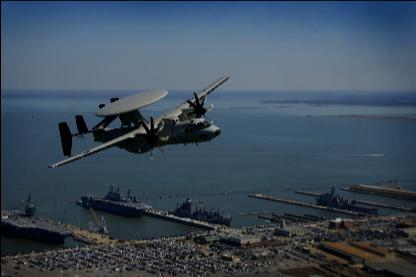C5: (46, 75, 230, 167)
